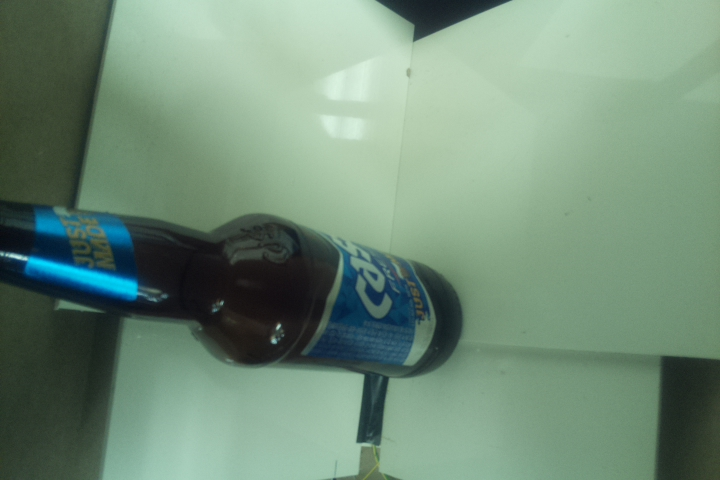makju: (1, 196, 463, 386)
